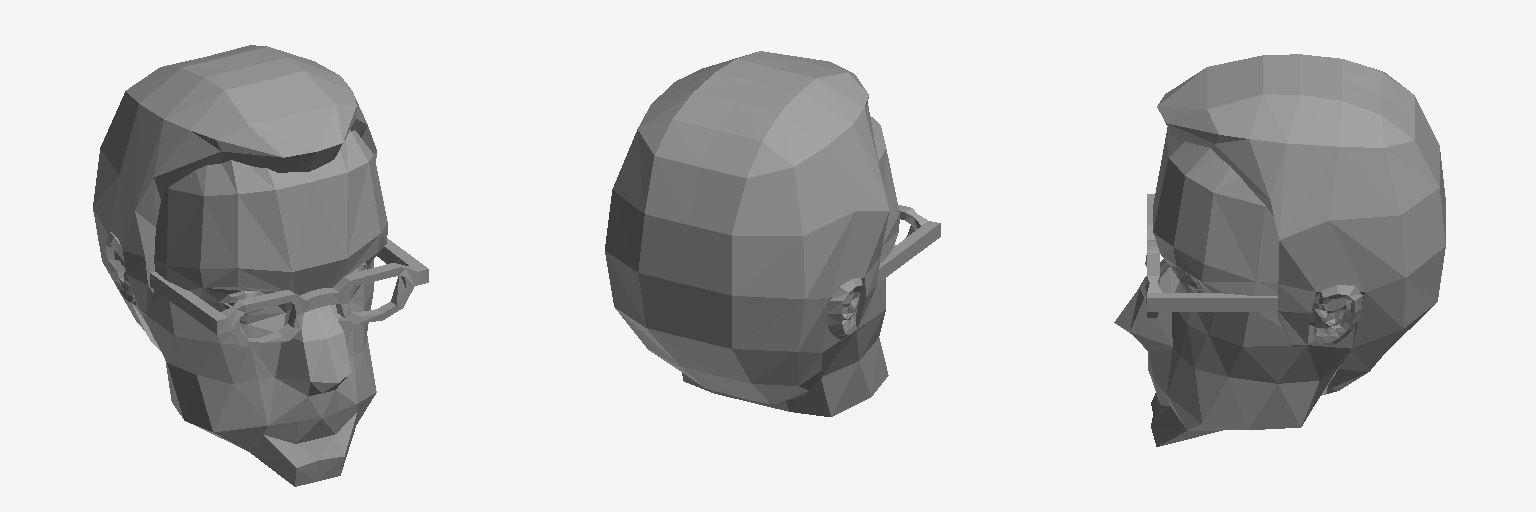
Rendered from Headmaster_closed.obj.
3 renders of one model, left to right at view 1: azimuth 30°, elevation 25°; view 2: azimuth 150°, elevation 25°; view 3: azimuth 270°, elevation 25°, orthographic.
Parts seen in each view (by area): view 1: face_Cube.003, hair_bse_Cube.009, Glasses_Plane.001; view 2: hair_bse_Cube.009, face_Cube.003, Glasses_Plane.001; view 3: hair_bse_Cube.009, face_Cube.003, Glasses_Plane.001.
Part boxes in pixels (bbox=[...]): face_Cube.003: bbox=[106, 130, 387, 486]; hair_bse_Cube.009: bbox=[93, 45, 376, 350]; Glasses_Plane.001: bbox=[150, 238, 428, 349]; hair_bse_Cube.009: bbox=[605, 51, 889, 404]; face_Cube.003: bbox=[682, 116, 899, 416]; Glasses_Plane.001: bbox=[878, 205, 940, 282]; hair_bse_Cube.009: bbox=[1157, 54, 1445, 395]; face_Cube.003: bbox=[1114, 127, 1363, 446]; Glasses_Plane.001: bbox=[1145, 194, 1312, 317].
Size of the model in its own units: 4.98 by 7.12 by 5.9.